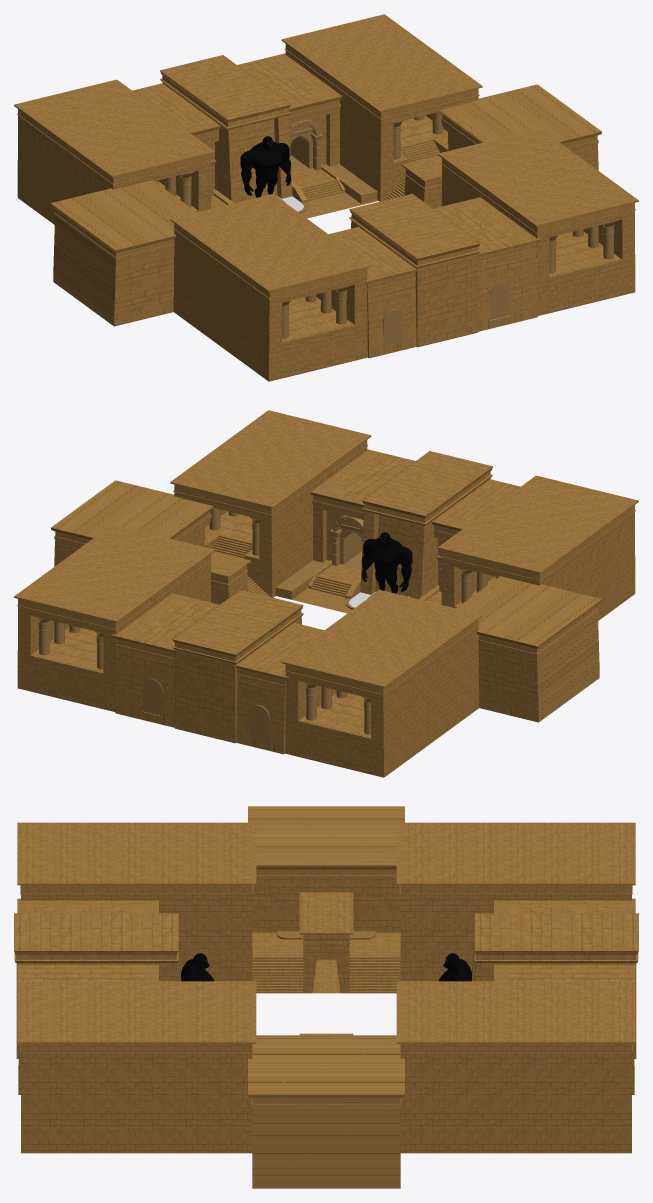
Rendered from SampleScene_blockout.fbx.
3 renders of one model, top to bottom at view 1: azimuth 30°, elevation 25°; view 2: azimuth 150°, elevation 25°; view 3: azimuth 270°, elevation 25°, orthographic. The views are drawn at different scales.
Parts seen in each view (by area): view 1: Cube.011, Cube.008, Cube.012, Cube.006, Cube, Cube.003, Body.001, Plane.006, Circle.005, Cube.007, Circle.001, Plane (+2 smaller); view 2: Cube.011, Cube.008, Cube.012, Cube.006, Cube, Cube.003, Body.001, Plane.006, Circle.005, Cube.007, Circle.001, Plane.001 (+2 smaller); view 3: Cube.011, Cube.008, Cube.012, Cube.006, Cube, Cube.009, Body.001, Cube.005.
Boxes of the visible parts, left/top/right/bottom form: Cube.011: left=14, top=14, right=638, bottom=381; Cube.008: left=50, top=84, right=601, bottom=326; Cube.012: left=160, top=55, right=480, bottom=347; Cube.006: left=132, top=53, right=541, bottom=358; Cube: left=157, top=115, right=622, bottom=378; Cube.003: left=289, top=119, right=510, bottom=319; Body.001: left=240, top=136, right=290, bottom=197; Plane.006: left=211, top=164, right=345, bottom=208; Circle.005: left=393, top=112, right=615, bottom=273; Cube.007: left=402, top=155, right=441, bottom=208; Circle.001: left=155, top=171, right=348, bottom=338; Plane: left=300, top=192, right=378, bottom=218; Cube.011: left=14, top=410, right=638, bottom=777; Cube.008: left=51, top=480, right=602, bottom=722; Cube.012: left=172, top=451, right=492, bottom=743; Cube.006: left=111, top=449, right=520, bottom=754; Cube: left=30, top=511, right=495, bottom=774; Cube.003: left=142, top=515, right=363, bottom=715; Body.001: left=362, top=532, right=412, bottom=593; Plane.006: left=308, top=561, right=441, bottom=604; Circle.005: left=37, top=508, right=259, bottom=669; Cube.007: left=211, top=551, right=250, bottom=604; Circle.001: left=304, top=567, right=497, bottom=734; Plane.001: left=275, top=560, right=331, bottom=599; Cube.011: left=17, top=822, right=635, bottom=1153; Cube.008: left=248, top=806, right=404, bottom=1188; Cube.012: left=14, top=913, right=638, bottom=1058; Cube.006: left=17, top=898, right=635, bottom=1094; Cube: left=252, top=931, right=400, bottom=993; Cube.009: left=299, top=892, right=353, bottom=993; Body.001: left=181, top=953, right=471, bottom=981; Cube.005: left=312, top=959, right=340, bottom=993.
Bounding box in the file's own units: 7378 × 1465 × 6755.
